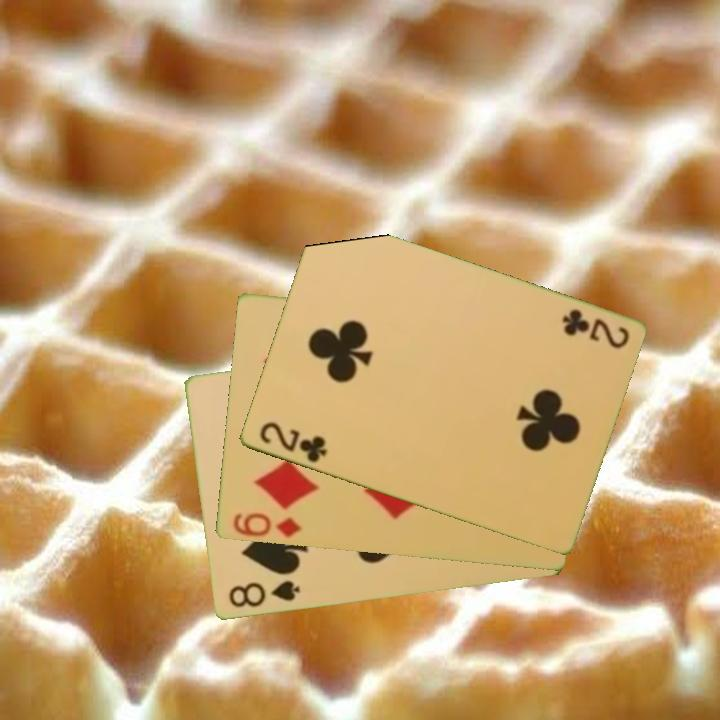2c: (255, 418, 329, 466), (558, 306, 632, 352)
6d: (229, 509, 304, 541)
8s: (225, 577, 302, 611)
